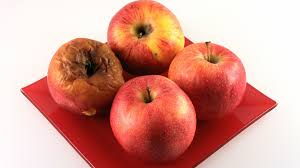apple: (113, 81, 201, 160), (168, 44, 249, 116), (109, 4, 187, 76)
damaged_apple: (45, 38, 124, 112)
